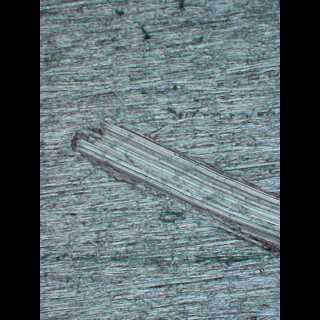d: (66, 118, 279, 257)
